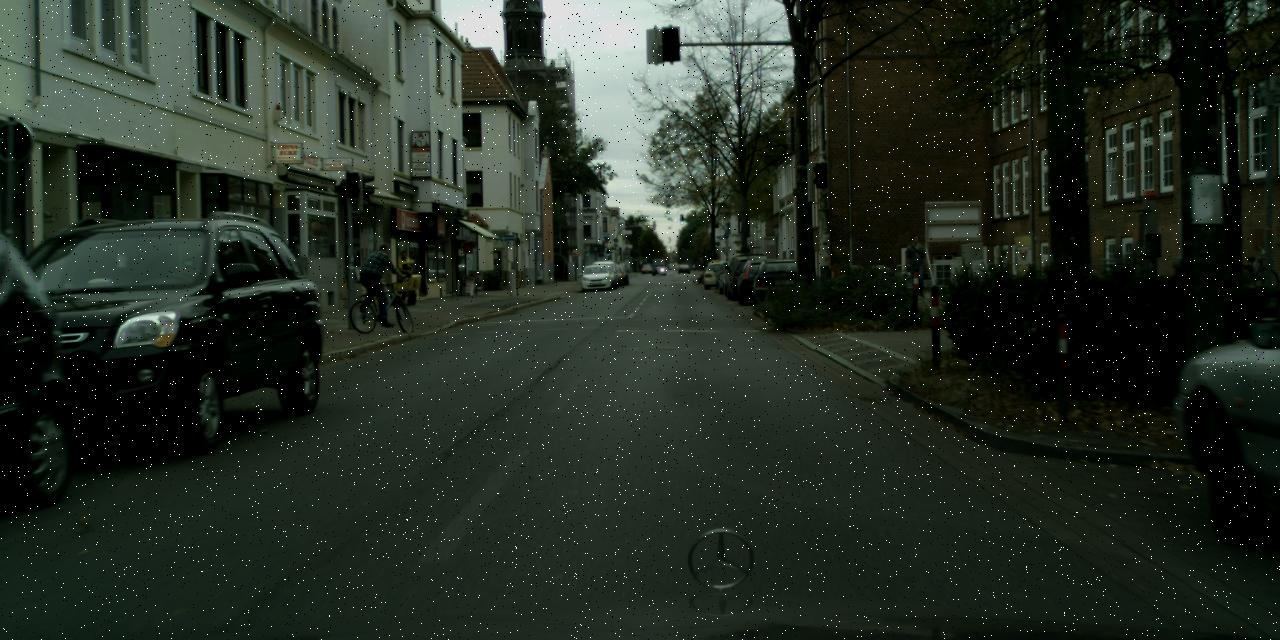ped: (362, 241, 394, 320), (902, 234, 927, 295), (394, 250, 414, 298)
